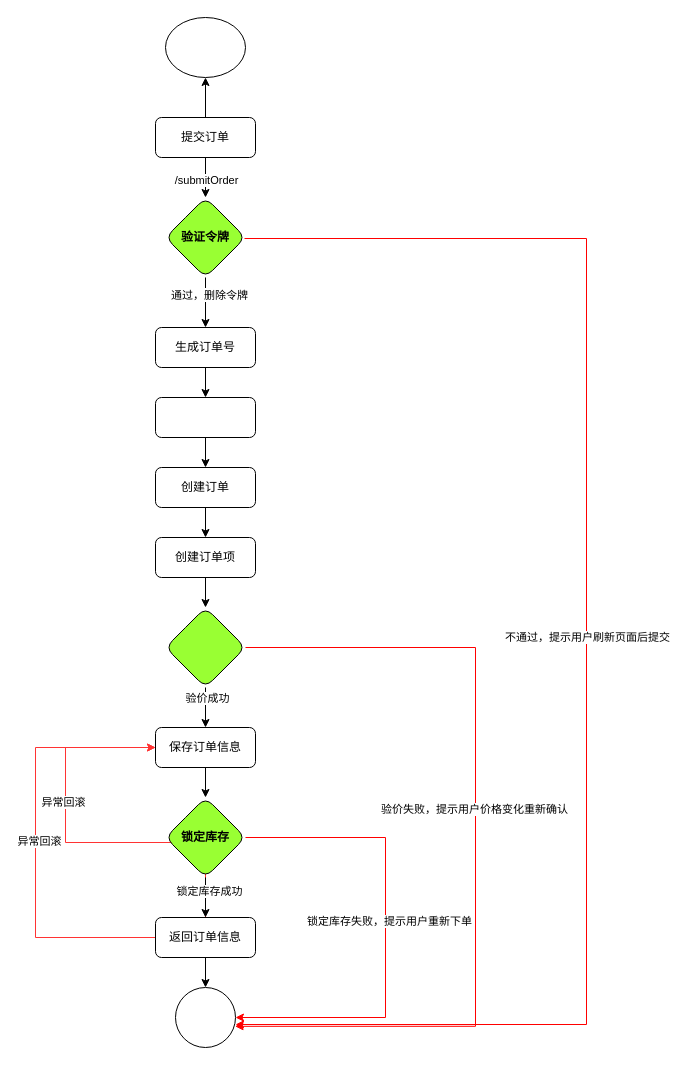
Some shapes in this 687 by 1065 pixel diagram are drawn without their labels. The box of each missing label's shape, as (x1, y1, x2, y2) in pixels:
开始: (164, 16, 246, 78)
结束: (174, 986, 236, 1048)
获取购物车中所有选中项: (154, 396, 256, 438)
验价: (164, 606, 246, 688)
